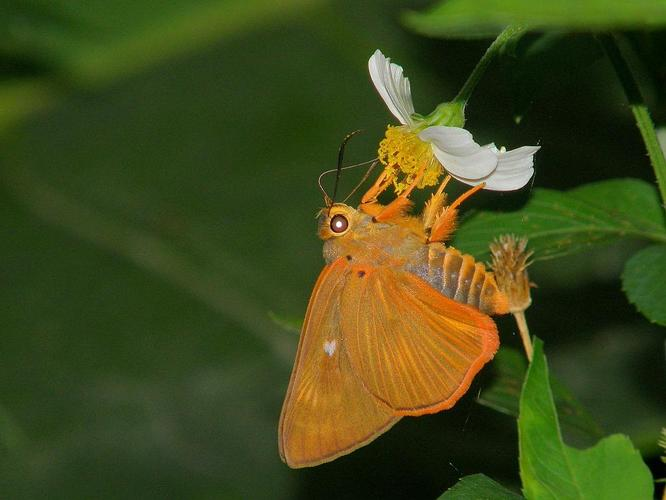Hesperiidae: (274, 138, 505, 475)
